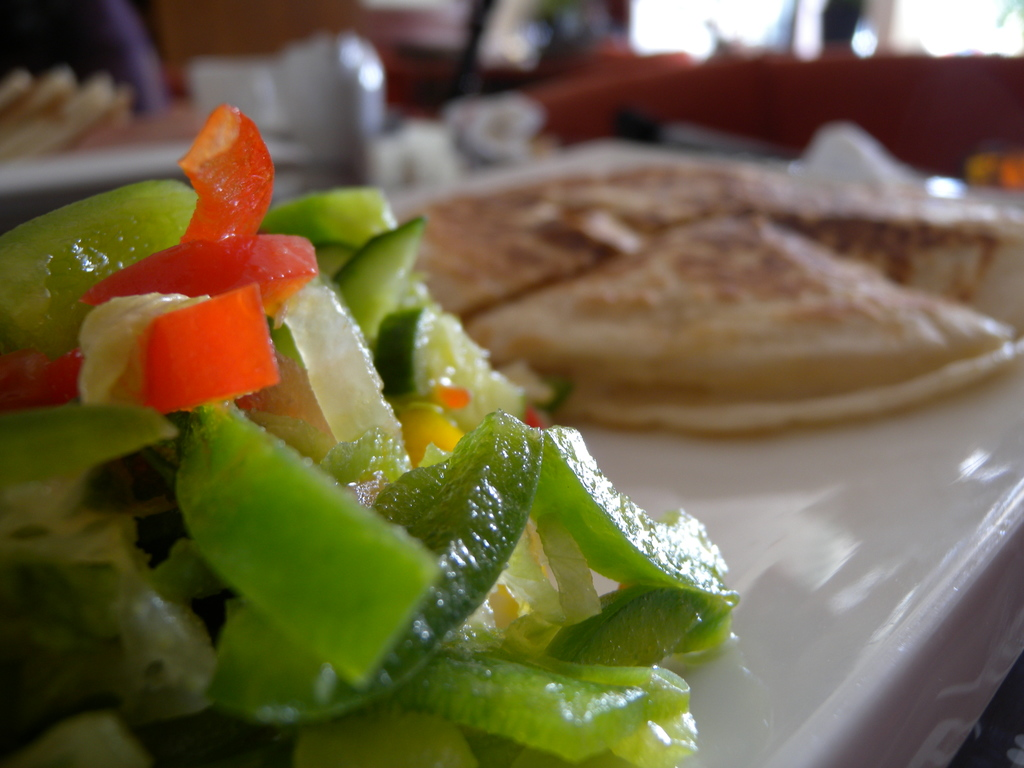salad: (0, 102, 746, 767)
